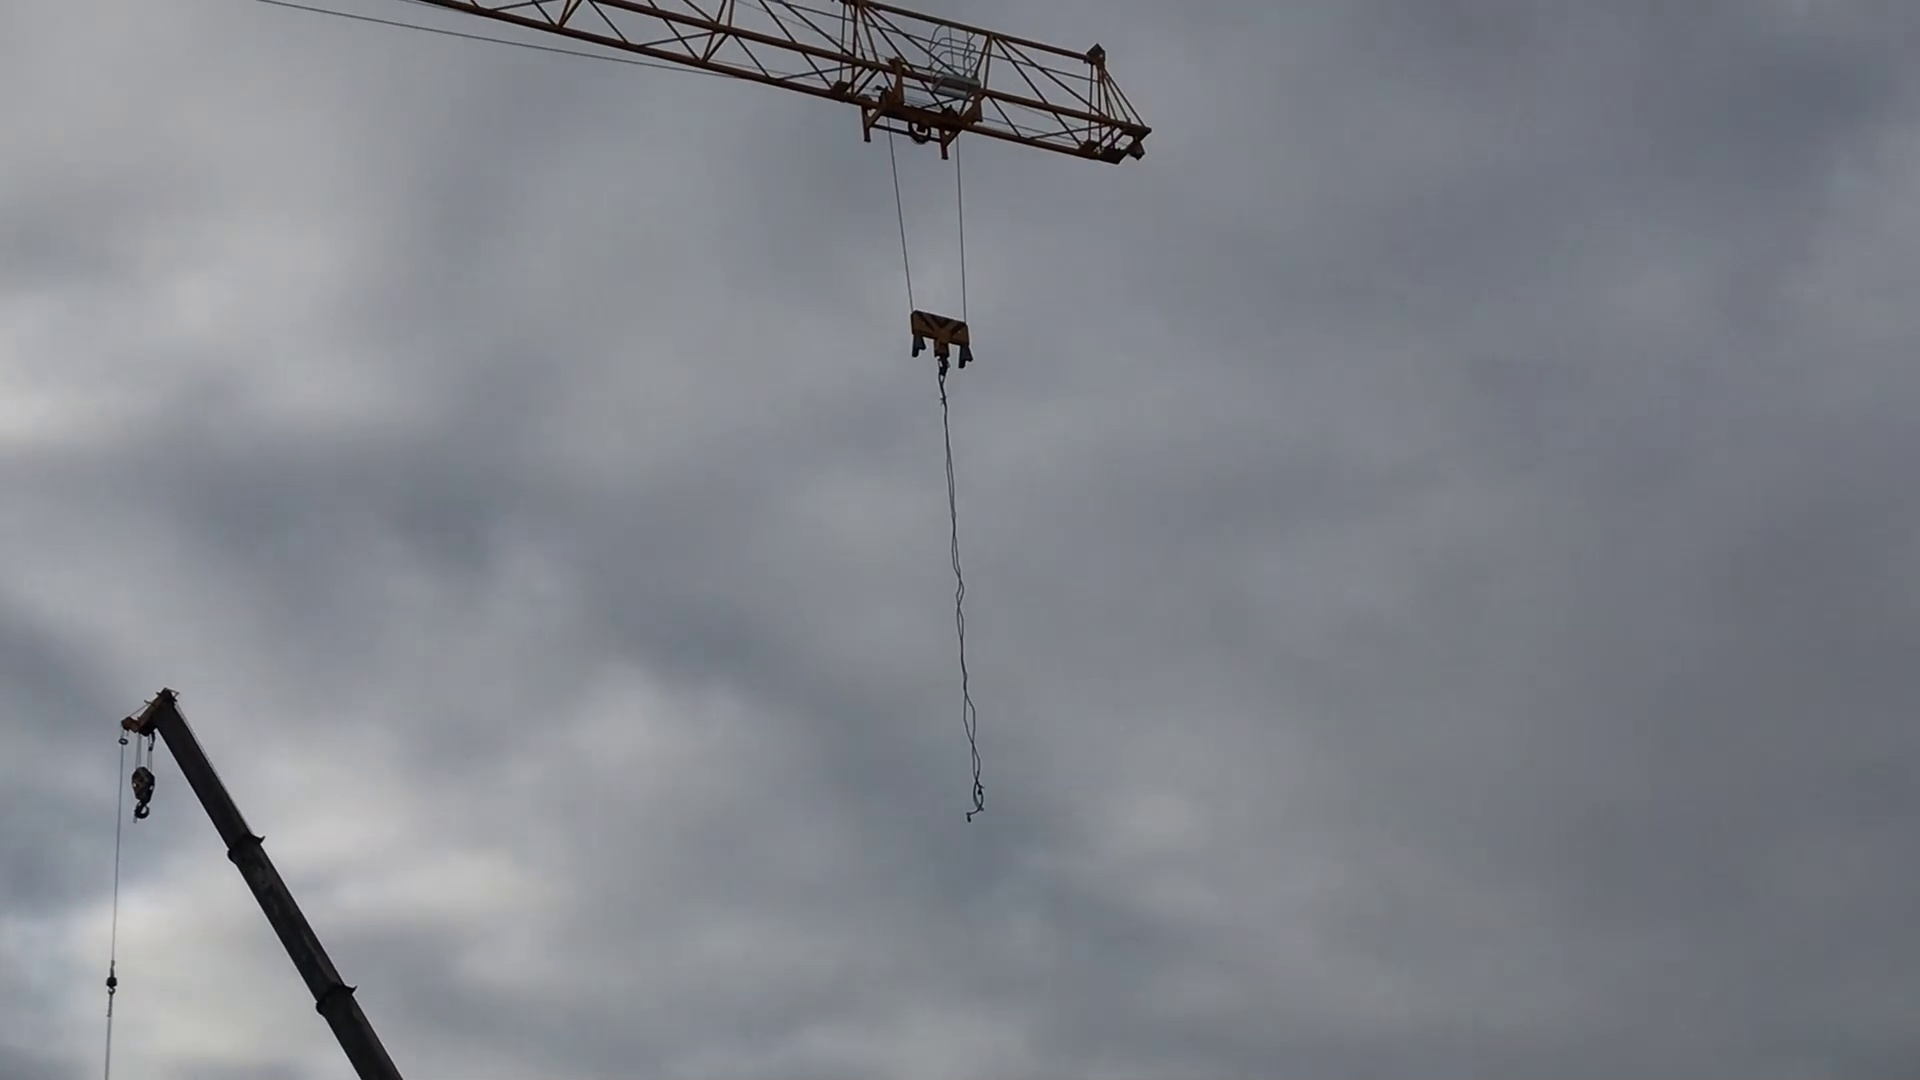hook: (903, 307, 980, 389)
